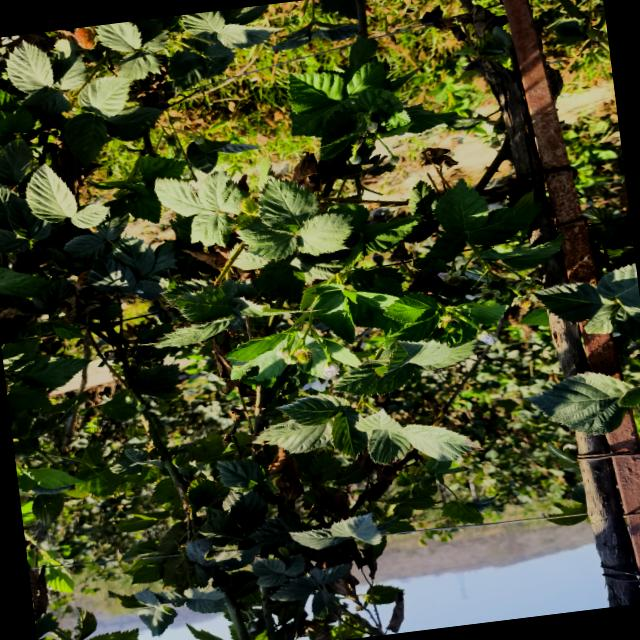boton: (322, 361, 340, 378), (276, 346, 289, 359), (283, 354, 297, 364), (349, 154, 361, 164), (367, 121, 377, 132), (389, 155, 399, 164)
